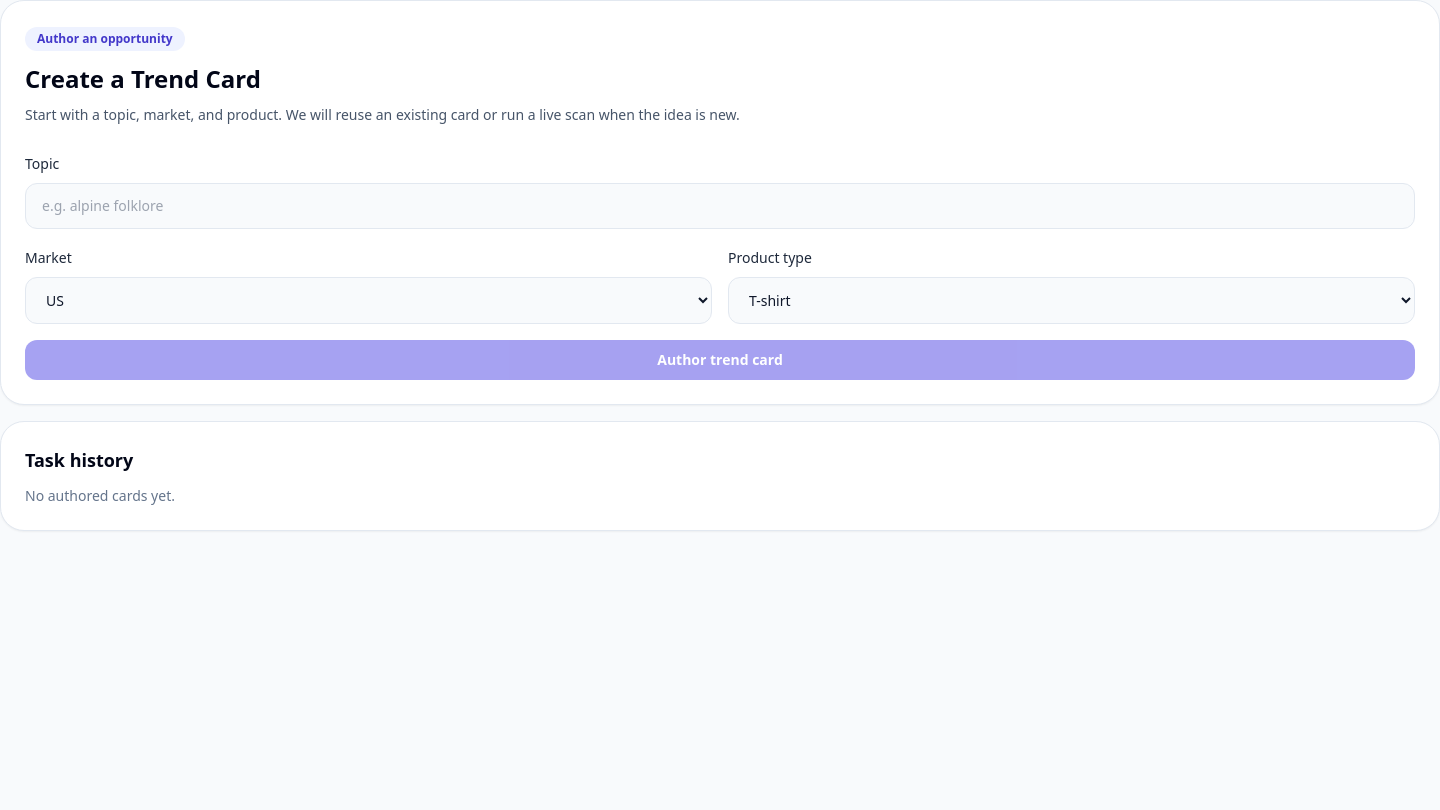
it: SeedAuthoringPanel › fails and cancels a task when the watchdog times out
The width and height of the screenshot is (1440, 810).
In the field labelled "Topic": [720, 206] box x1=25 y1=183 x2=1415 y2=229, type "alpine folklore"
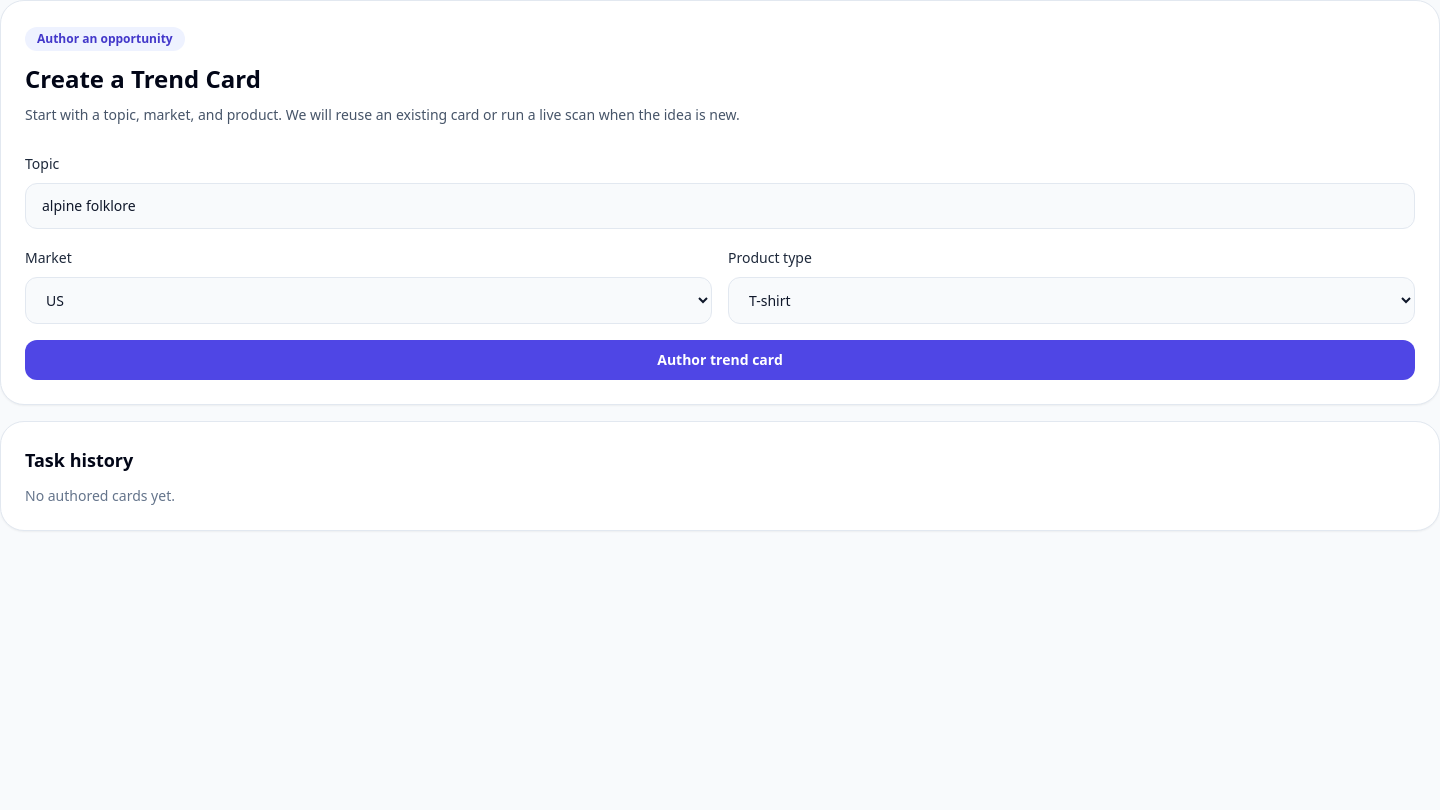
Click the button "Author trend card": [720, 360] box x1=25 y1=340 x2=1415 y2=380
Wait 120000 ms
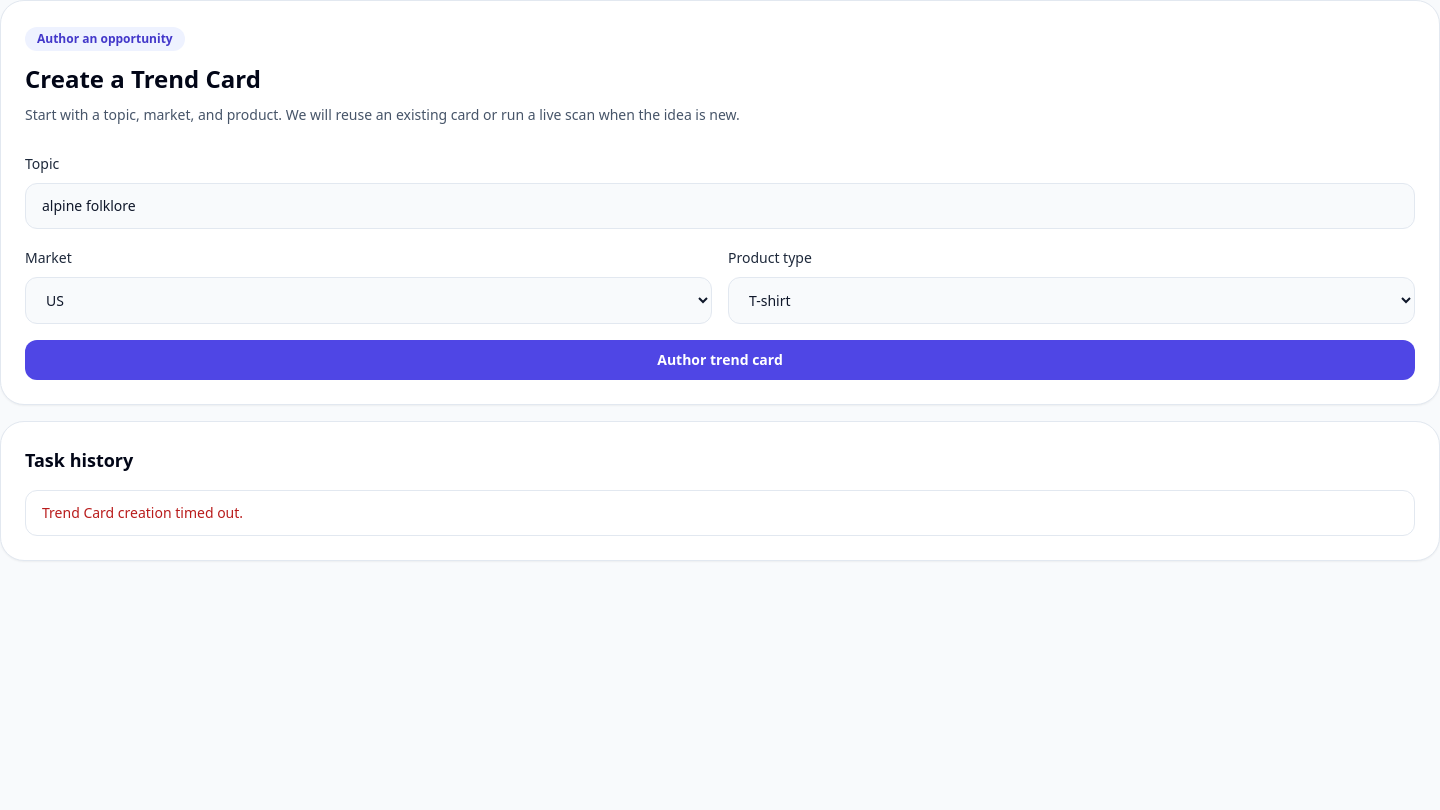
Now the message reads "Trend Card creation timed out.", box x1=42 y1=503 x2=243 y2=522
